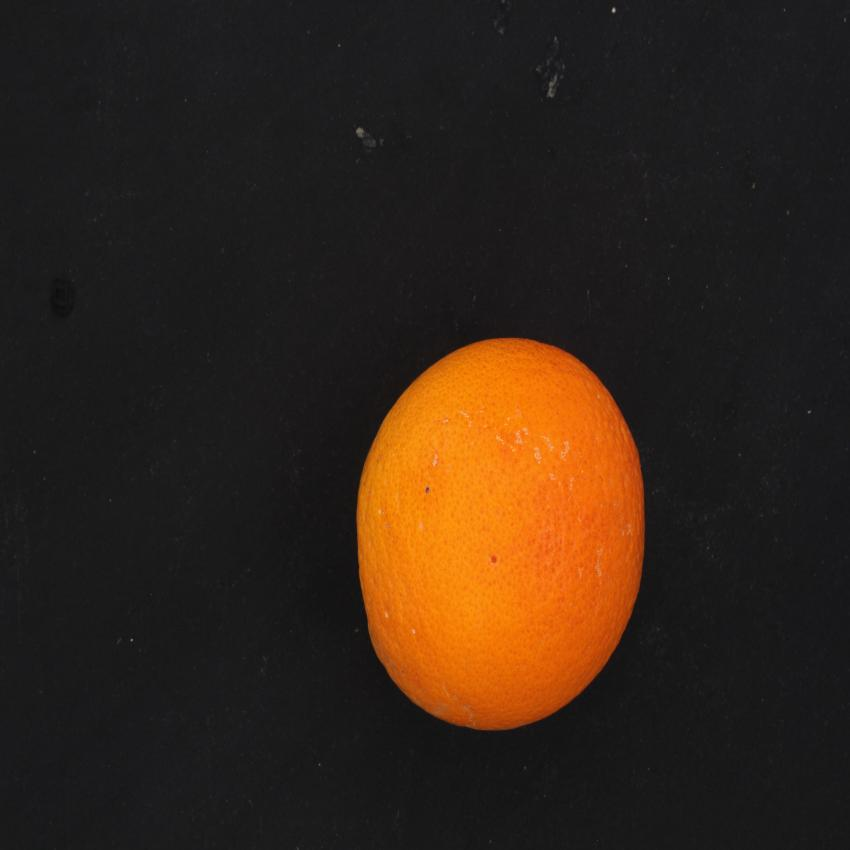Mal estado: (348, 326, 658, 744)
